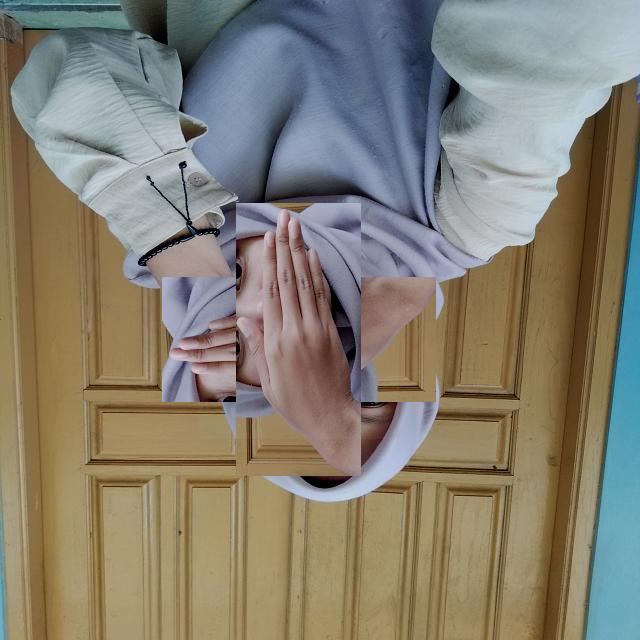buruk: (199, 240, 399, 439)
